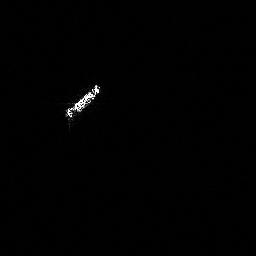ship: (63, 83, 103, 123)
